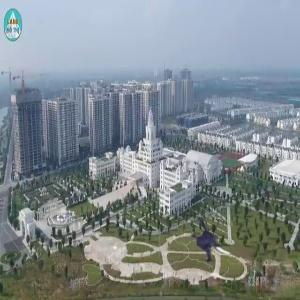drone: (179, 212, 244, 277)
